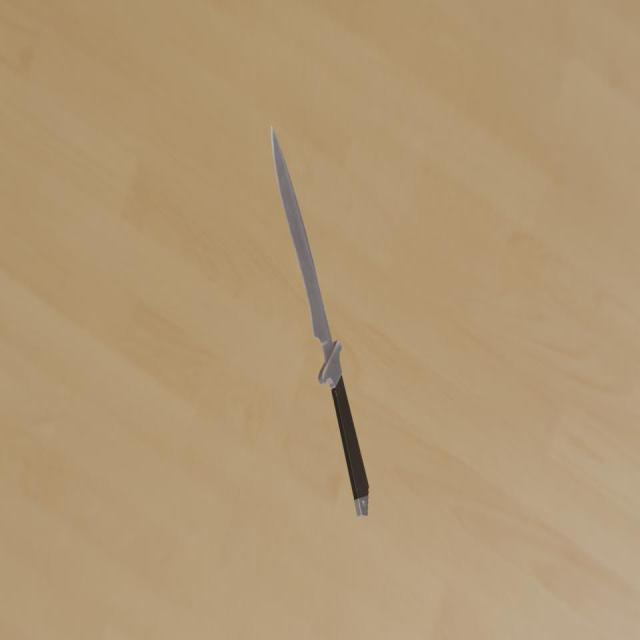knife: (331, 375, 370, 517)
